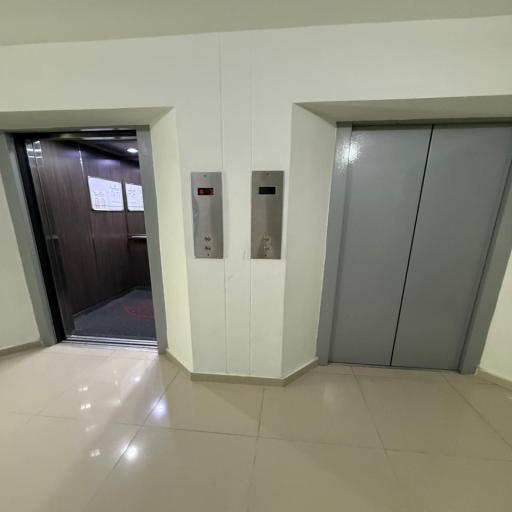closet: (249, 102, 512, 377), (0, 100, 224, 353)
